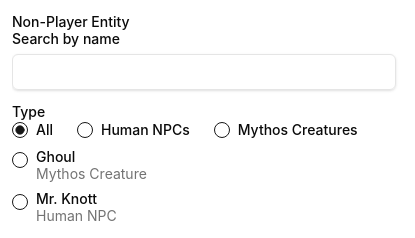
NonPlayerEntityPicker › offers Clear filters when nothing matches, restores the list, and focuses the search field (SP-UX-51, SP-A11Y-33)
This screenshot has width=415, height=238.
Step 1. Type "zzz" into the field labelled "Search by name" → (204, 72), box x1=12 y1=54 x2=396 y2=90
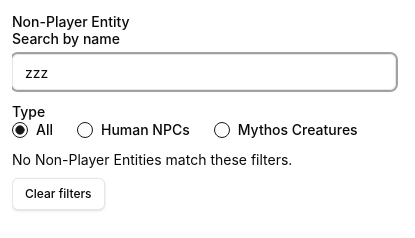
Expected: the text "No Non-Player Entities match these filters." is shown, x1=12 y1=150 x2=292 y2=170
Step 2. Click the button "Clear filters" → (58, 194), box x1=12 y1=178 x2=105 y2=210
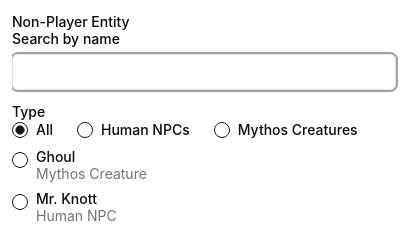
Expected: the radio button named "All" next to "All" is checked, x1=12 y1=122 x2=28 y2=138
Expected: the field labelled "Search by name" is empty, x1=12 y1=54 x2=396 y2=90
